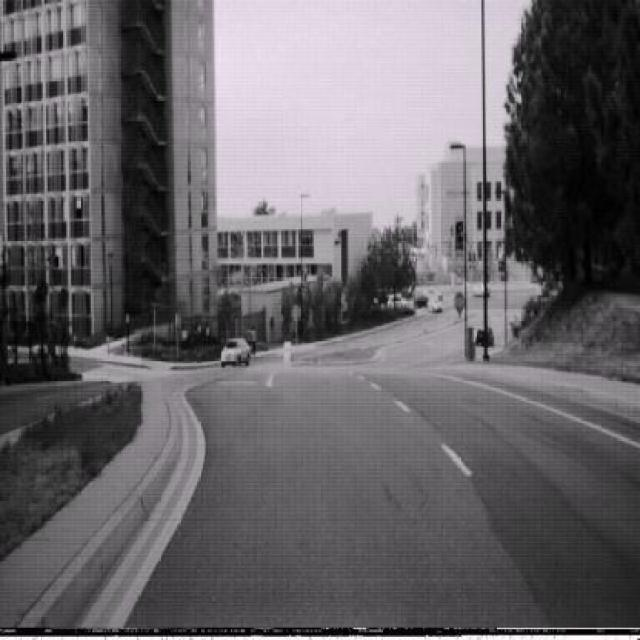stop: (454, 289, 465, 314)
